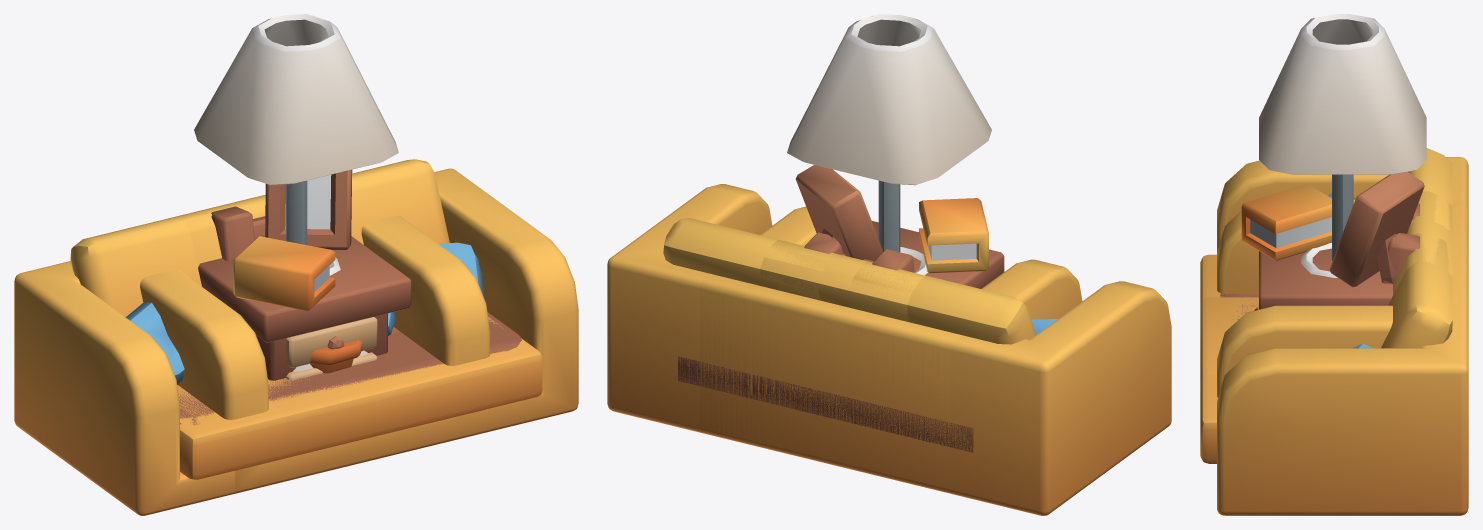
The model's file is furniture.glb.
The picture shows the model from 3 angles, left to right: view 1: azimuth 30°, elevation 25°; view 2: azimuth 150°, elevation 25°; view 3: azimuth 270°, elevation 25°; orthographic projection.
Visible parts, largest first — view 1: couch_pillows, armchair_pillows, lamp_standing, cabinet_small_decorated, table_low, chair_A_wood, shelf_B_small_decorated; view 2: couch_pillows, armchair_pillows, lamp_standing, cabinet_small_decorated, table_low, chair_A_wood; view 3: couch_pillows, lamp_standing, cabinet_small_decorated, armchair_pillows, chair_A_wood, lamp_table.
Boxes of the visible parts, bbox=[...] form: couch_pillows: bbox=[14, 159, 578, 515]; armchair_pillows: bbox=[140, 194, 489, 493]; lamp_standing: bbox=[194, 14, 398, 244]; cabinet_small_decorated: bbox=[198, 169, 411, 380]; table_low: bbox=[178, 312, 521, 425]; chair_A_wood: bbox=[211, 206, 265, 261]; shelf_B_small_decorated: bbox=[310, 339, 362, 373]; couch_pillows: bbox=[607, 184, 1171, 515]; armchair_pillows: bbox=[700, 206, 1082, 492]; lamp_standing: bbox=[787, 14, 991, 252]; cabinet_small_decorated: bbox=[795, 165, 1004, 288]; table_low: bbox=[678, 356, 973, 452]; chair_A_wood: bbox=[804, 232, 914, 272]; couch_pillows: bbox=[1200, 148, 1468, 515]; lamp_standing: bbox=[1259, 14, 1426, 260]; cabinet_small_decorated: bbox=[1241, 172, 1424, 309]; armchair_pillows: bbox=[1200, 191, 1468, 397]; chair_A_wood: bbox=[1381, 203, 1419, 283]; lamp_table: bbox=[1301, 243, 1337, 277].
Size of the model in its own units: 3 by 2.77 by 1.6.
1 material, 1 textured.
